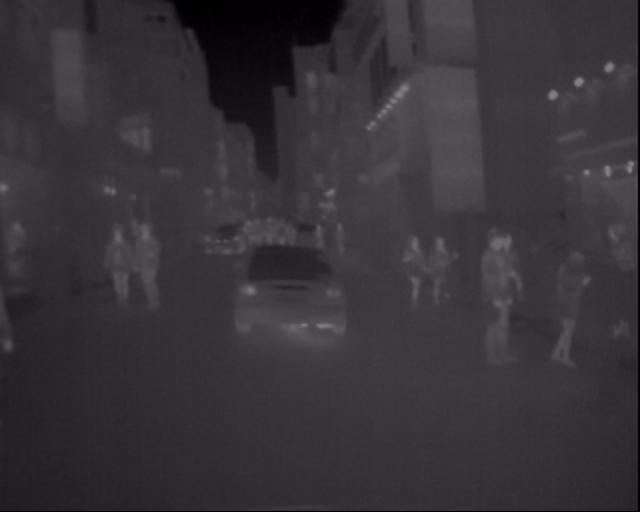person: (486, 227, 523, 371), (558, 247, 594, 365), (129, 224, 164, 319), (100, 221, 130, 321), (438, 234, 464, 313), (403, 239, 429, 317), (256, 218, 295, 249)
